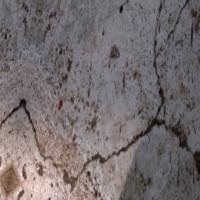crack: (0, 27, 198, 199)
